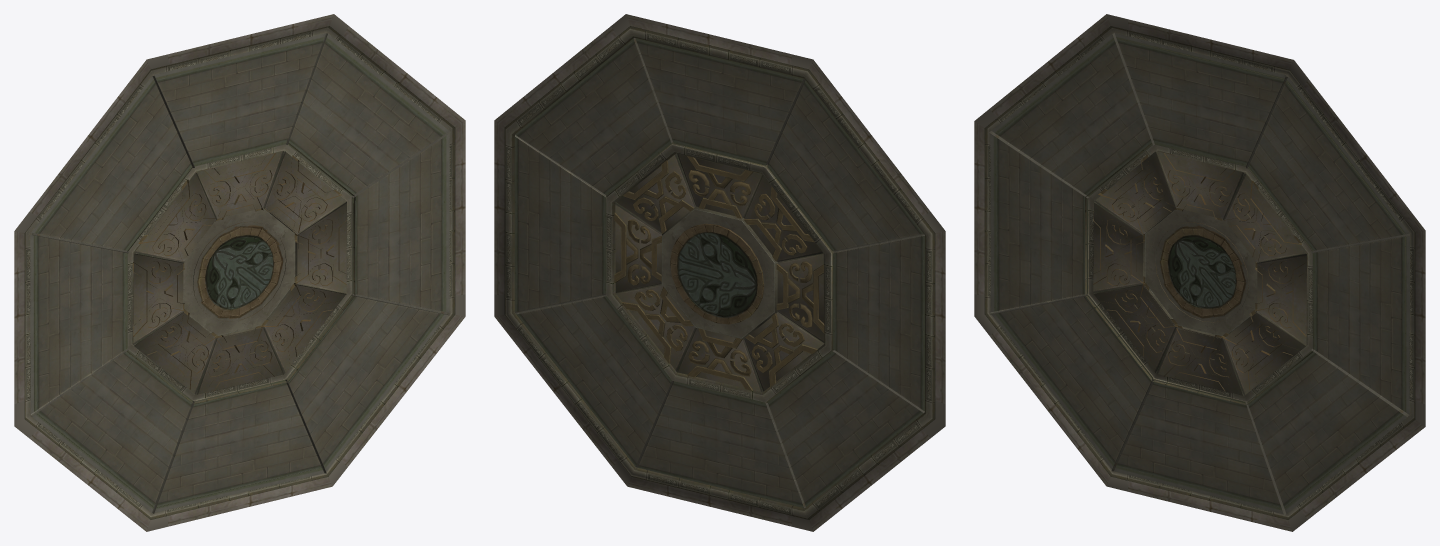
File: diban02.FBX
The picture shows the model from 3 angles, left to right: view 1: azimuth 30°, elevation 25°; view 2: azimuth 150°, elevation 25°; view 3: azimuth 330°, elevation 25°; orthographic projection.
Visible parts, largest first — view 1: s7_qianchongta_neibu_dimian01; view 2: s7_qianchongta_neibu_dimian01; view 3: s7_qianchongta_neibu_dimian01.
Part boxes in pixels (<box>): s7_qianchongta_neibu_dimian01: <box>14,14,465,531</box>; s7_qianchongta_neibu_dimian01: <box>494,14,945,531</box>; s7_qianchongta_neibu_dimian01: <box>974,14,1425,531</box>.
Size of the model in its own units: 45.86 by 45.88 by 0.6763.
